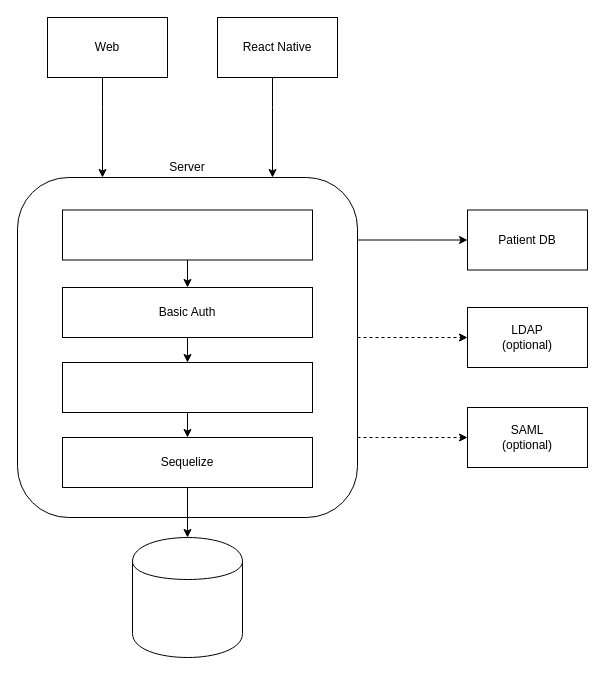
Image size: 605x675. Some labels were removed from this diagram. The centre of each missing label's shape, as x and y in pixels:
Controllers: the point at 187,387
Cors midleware: the point at 187,234
MySQL: the point at 187,597
